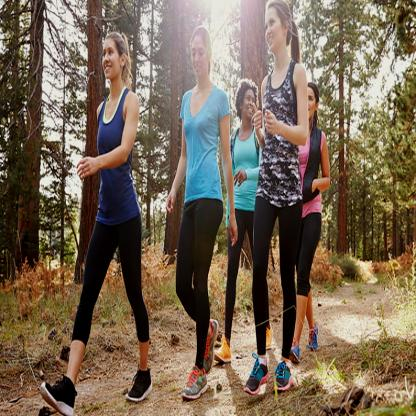jean: (40, 12, 151, 416), (162, 25, 240, 403), (246, 0, 308, 400), (296, 71, 333, 382), (222, 66, 256, 372)
